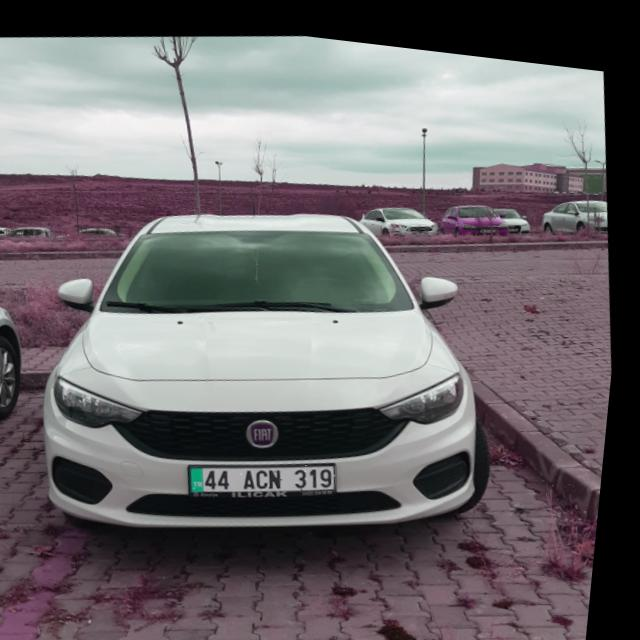license_plate: (197, 441, 348, 500)
